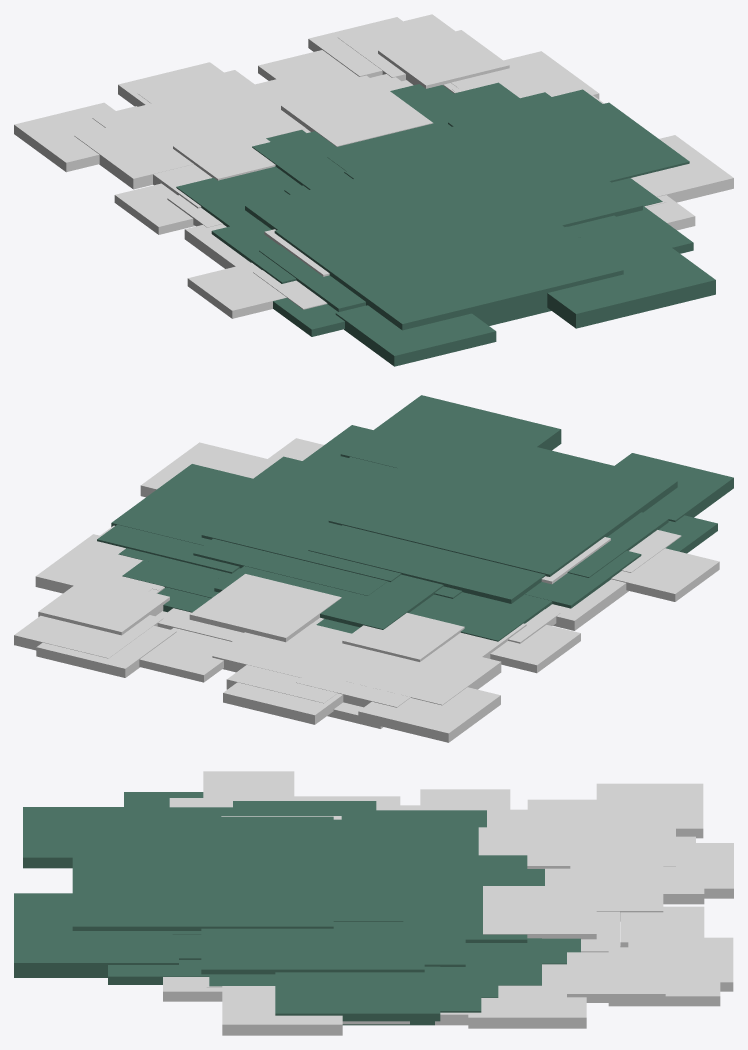
File: Moss.fbx
3 renders of one model, top to bottom at view 1: azimuth 30°, elevation 25°; view 2: azimuth 150°, elevation 25°; view 3: azimuth 270°, elevation 25°, orthographic. The views are drawn at different scales.
Visible parts, largest first — view 1: Moss Pile 2, Moss Pile 1, Stone Pile 4, Stone Pile 3, Stone Pile 2, Stone Pile 1, Moss Pile 3; view 2: Moss Pile 2, Moss Pile 1, Stone Pile 4, Stone Pile 3, Stone Pile 2, Moss Pile 3, Stone Pile 1; view 3: Moss Pile 2, Moss Pile 1, Stone Pile 4, Stone Pile 3, Stone Pile 2, Moss Pile 3, Stone Pile 1.
Part boxes in pixels (x1,y1,x2,y2): Moss Pile 2: (211,92,715,366); Moss Pile 1: (245,89,642,311); Stone Pile 4: (14,17,733,309); Stone Pile 3: (138,30,665,318); Stone Pile 2: (74,14,454,276); Stone Pile 1: (92,80,695,230); Moss Pile 3: (176,82,580,237); Moss Pile 2: (111,395,733,608); Moss Pile 1: (97,455,668,603); Stone Pile 4: (35,442,681,742); Stone Pile 3: (38,455,719,703); Stone Pile 2: (14,537,628,728); Moss Pile 3: (122,465,552,641); Stone Pile 1: (149,438,560,707); Moss Pile 2: (14,792,498,1021); Moss Pile 1: (146,807,481,1025); Stone Pile 4: (169,783,733,1035); Stone Pile 3: (203,771,704,1025); Stone Pile 2: (221,789,733,1024); Moss Pile 3: (172,810,580,985); Stone Pile 1: (163,805,675,1001).
Size of the model in its own units: 605 by 29.22 by 722.
